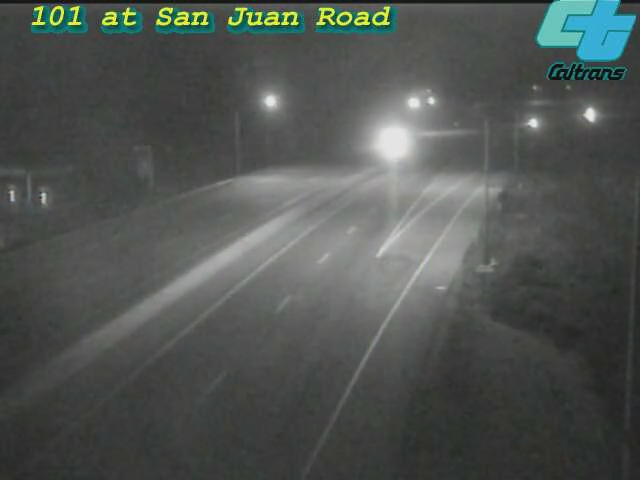vehicle: (359, 118, 409, 168), (507, 98, 557, 148), (560, 90, 610, 140)
